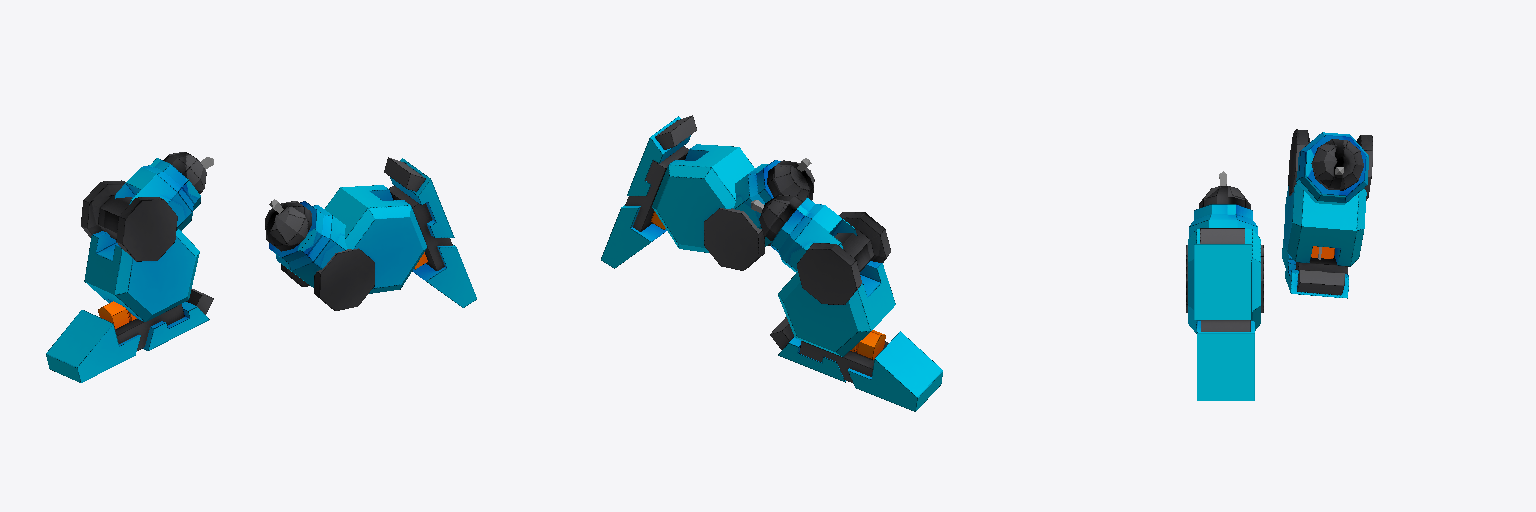
3 renders of one model, left to right at view 1: azimuth 30°, elevation 25°; view 2: azimuth 150°, elevation 25°; view 3: azimuth 270°, elevation 25°, orthographic.
Parts seen in each view (by area): view 1: Object010, Object013, Object011, Object014, Object012, Object009; view 2: Object010, Object013, Object011, Object014, Object009, Object012; view 3: Object014, Object010, Object009, Object011, Object012, Object013.
Part boxes in pixels (x1,y1,x2,y2): Object010: (81, 180, 199, 321); Object013: (281, 185, 426, 310); Object011: (46, 289, 213, 382); Object014: (384, 157, 476, 307); Object012: (265, 201, 347, 287); Object009: (114, 152, 206, 230); Object010: (778, 212, 895, 356); Object013: (652, 144, 770, 270); Object011: (770, 317, 942, 411); Object014: (601, 115, 696, 268); Object009: (759, 195, 857, 272); Object012: (733, 160, 814, 246); Object014: (1194, 228, 1254, 400); Object010: (1284, 129, 1372, 266); Object009: (1296, 132, 1368, 204); Object011: (1282, 239, 1348, 298); Object012: (1189, 186, 1257, 237); Object013: (1186, 229, 1263, 333).
Bounding box in the file's own units: 204 × 98.93 × 91.53.
Materials: 1 (1 with a texture image).